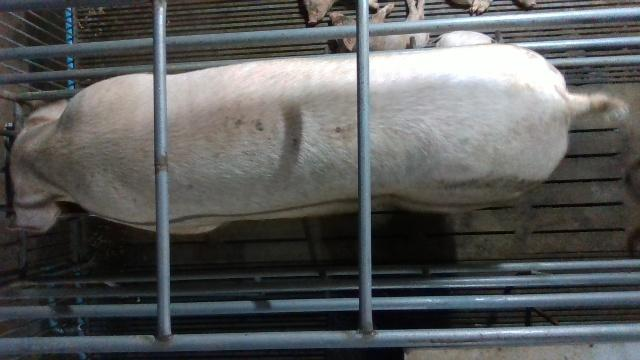piglet: (329, 0, 430, 50)
sow-stand-feed: (8, 45, 629, 235)
